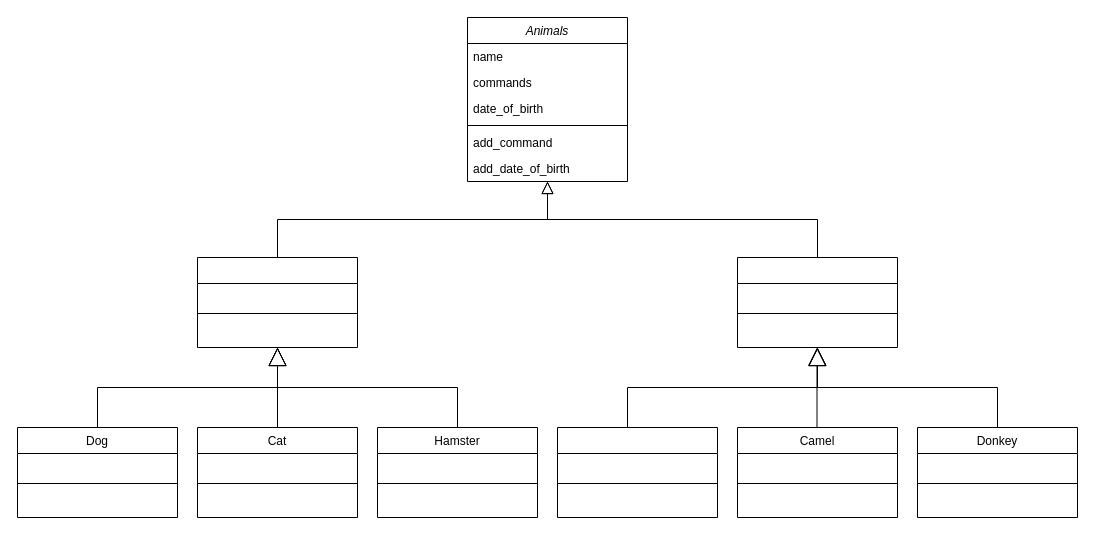
This 1095x535 diagram has some shape labels left out. The shapes that lost their labels are listed below. From the top down, each one's centre as x and y in pixels, then its label:
At (277,302): "Pets".
At (817,302): "Pack animals".
At (637,472): "Horse".
